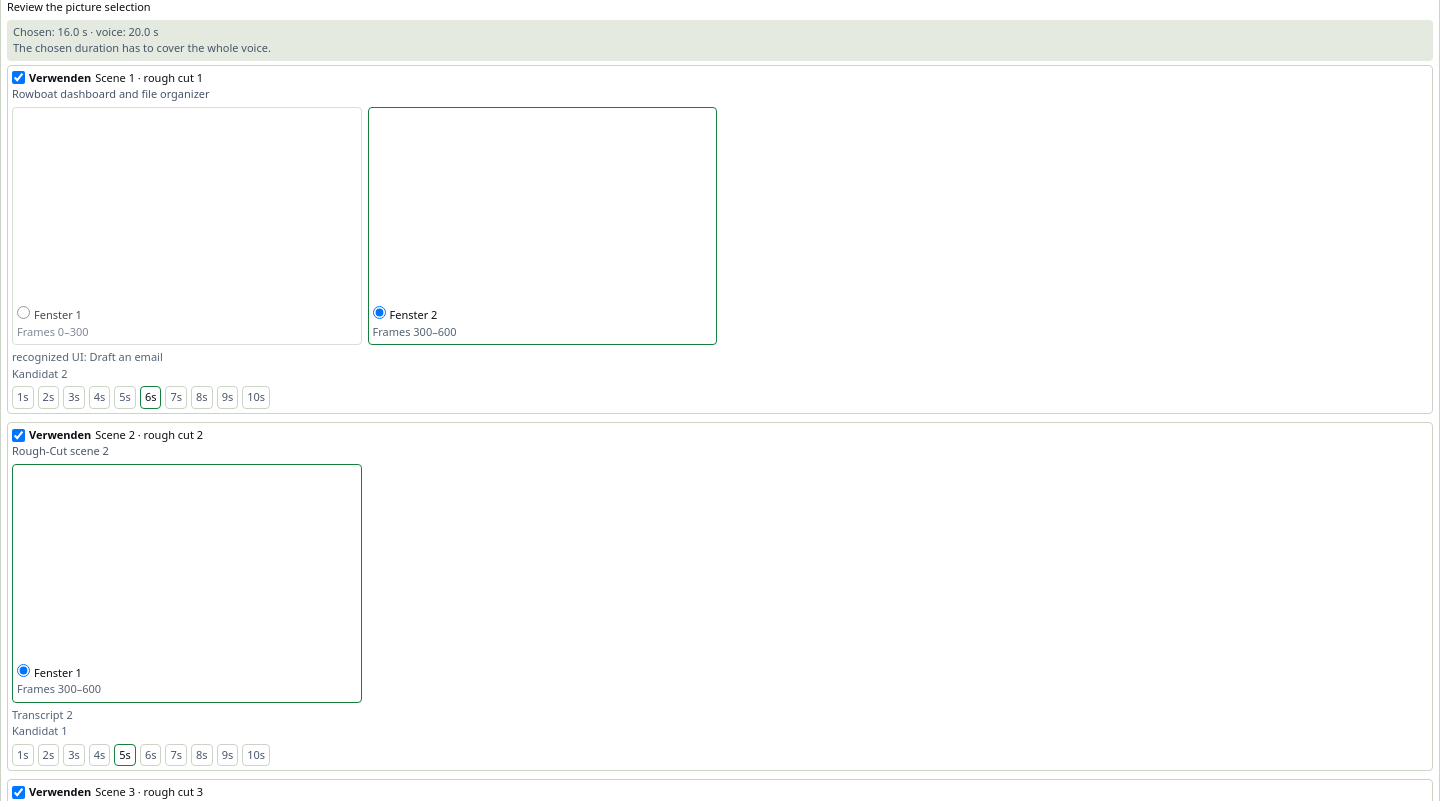
Test: VisualSelectionCard › restores the persisted rough-cut draft and autosaves every complete decision change
The width and height of the screenshot is (1440, 801).
Expected: the radio button with test id "visual-scene-candidate-scene-0-candidate-1" is checked, [372,306,386,320]
Step 1. Click the radio button with test id "visual-scene-candidate-scene-0-candidate-0" → (24, 313), box [17,306,30,320]
(page scrolled)
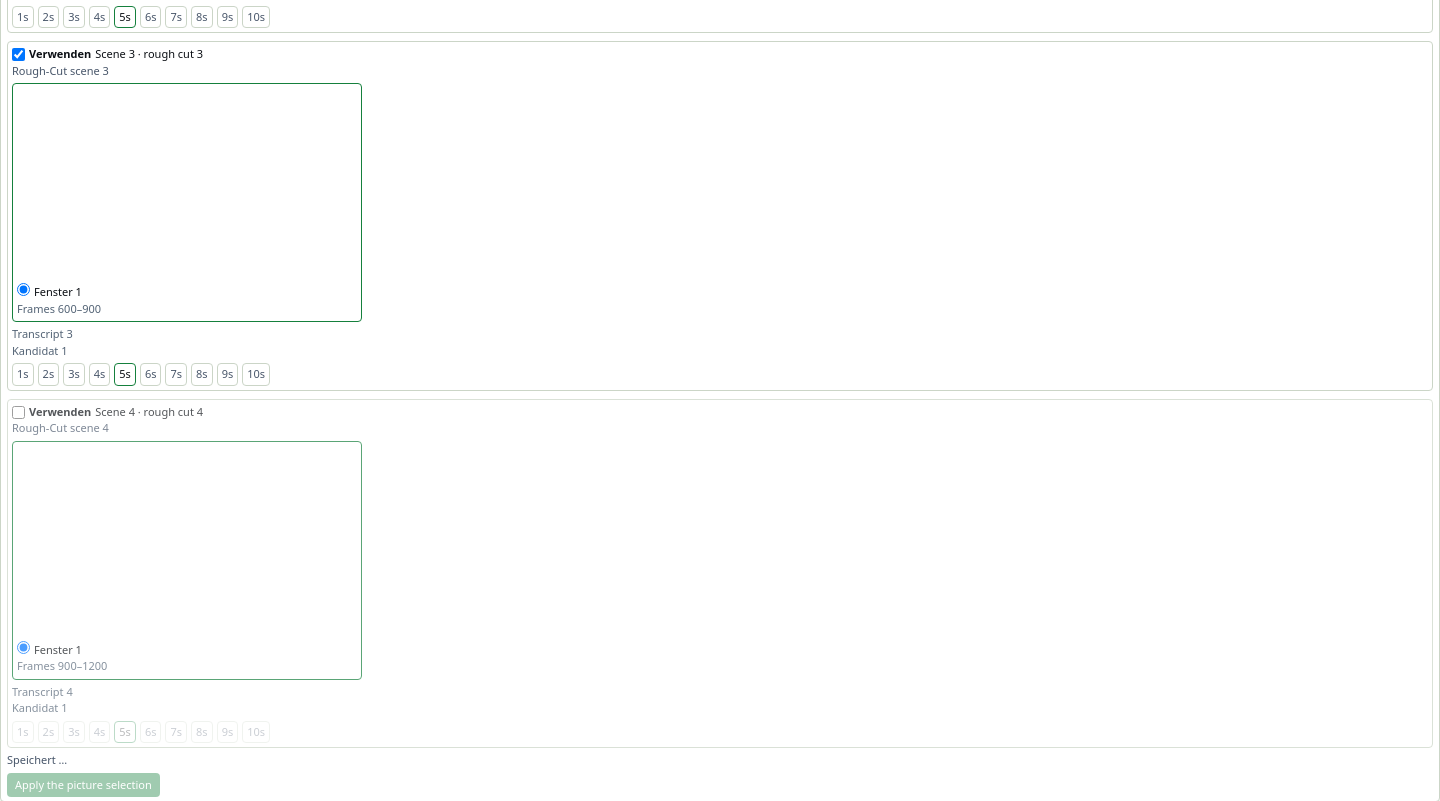
Step 2. Click the checkbox with test id "visual-scene-use-3" → (18, 412), box [12,406,25,419]
(page scrolled)
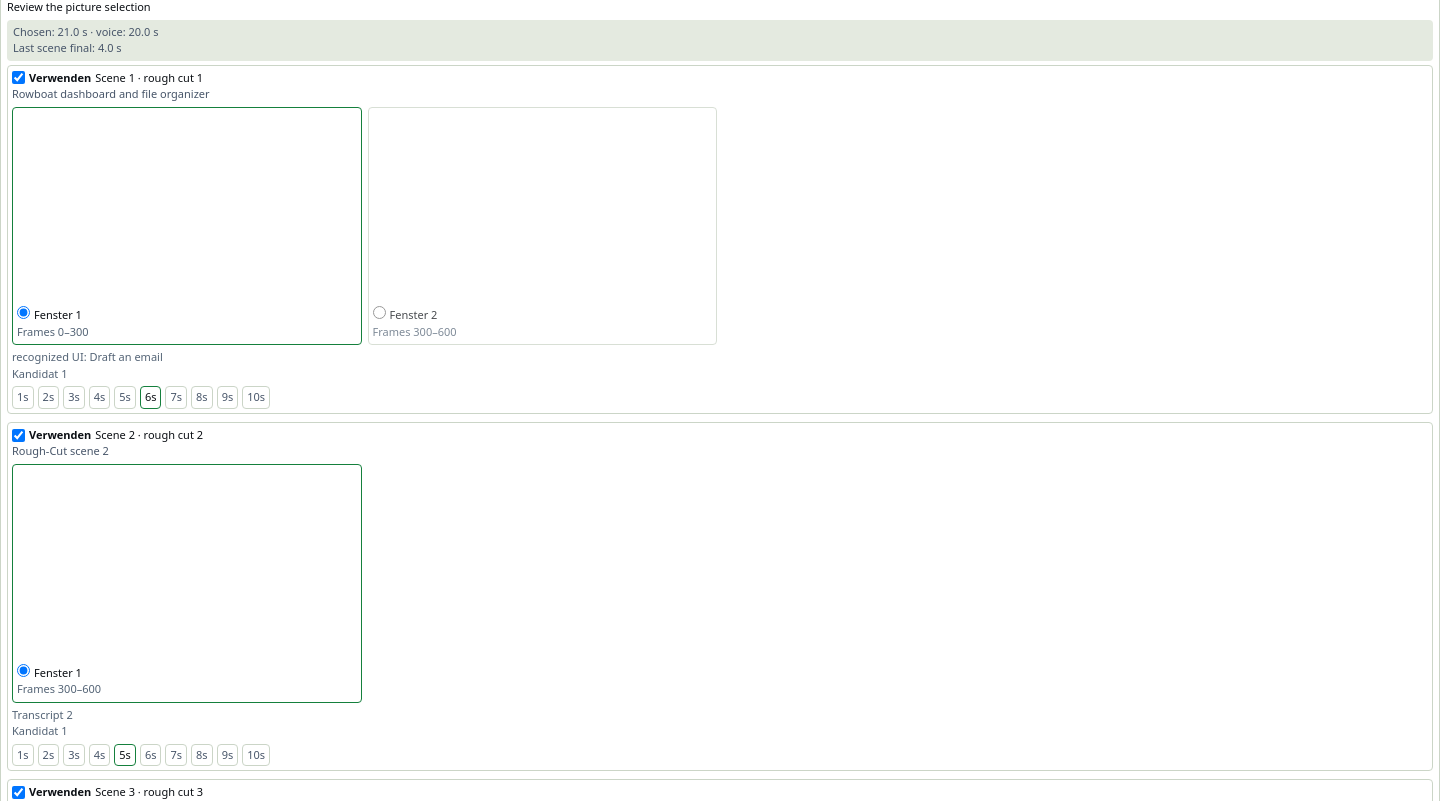
Step 3. Click the button named "Scene 1: 7 seconds" → (176, 398), box [166,386,187,409]
(page scrolled)
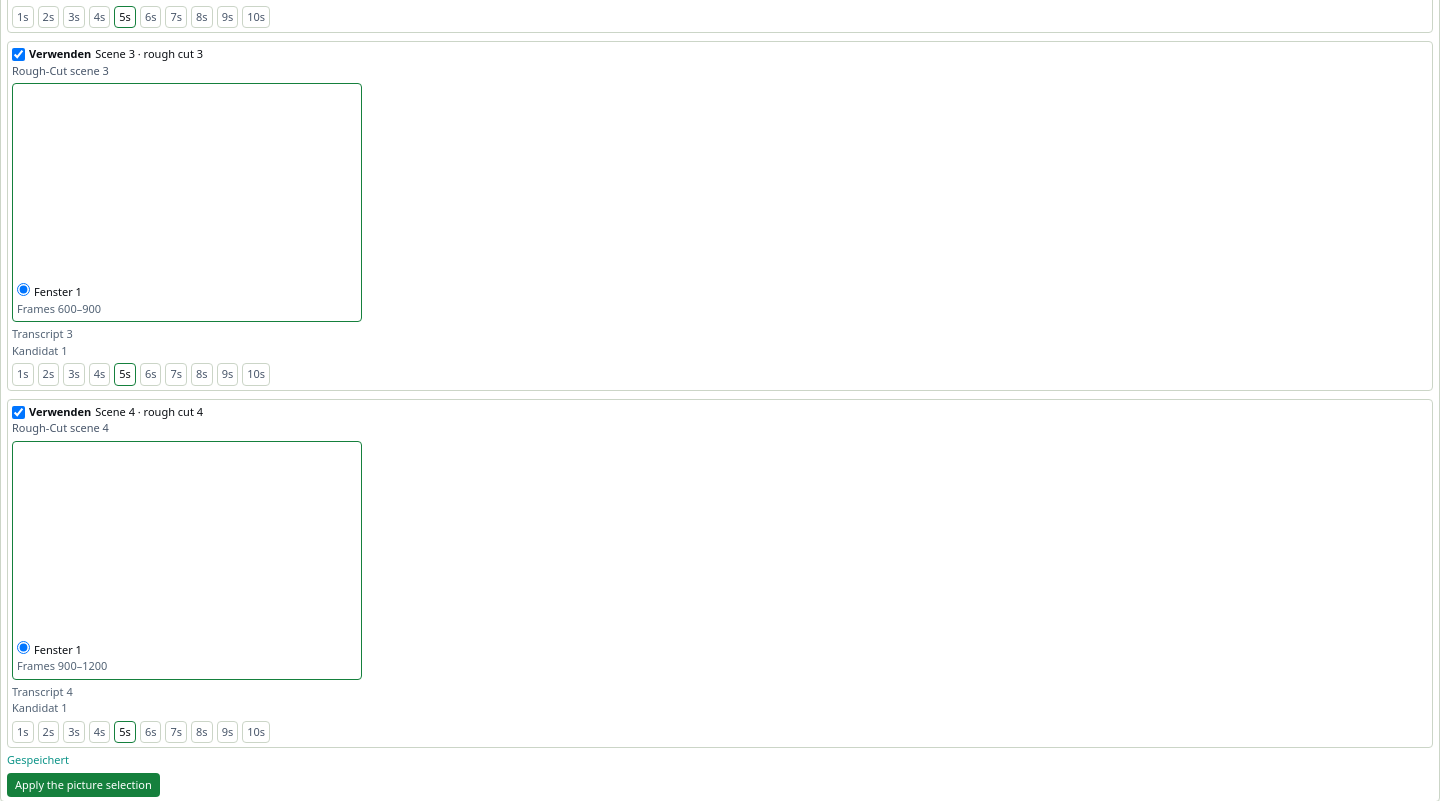
Now the text "Gespeichert" is shown, box [7,752,69,767]
